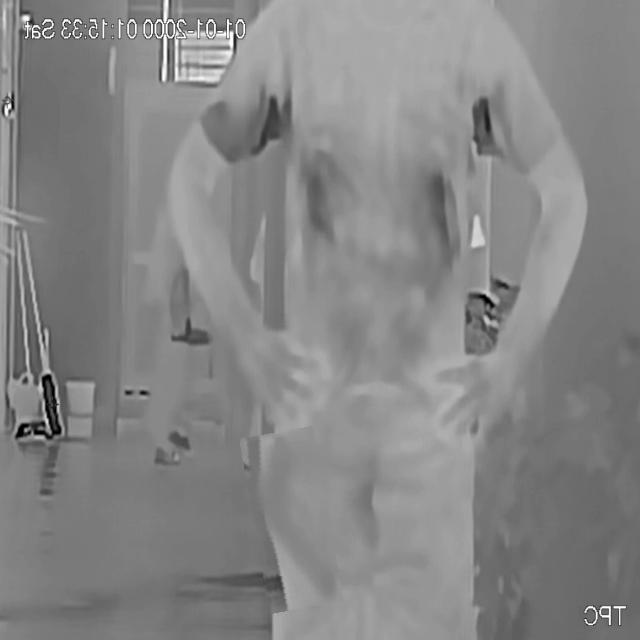Weapon: (247, 428, 336, 612)
